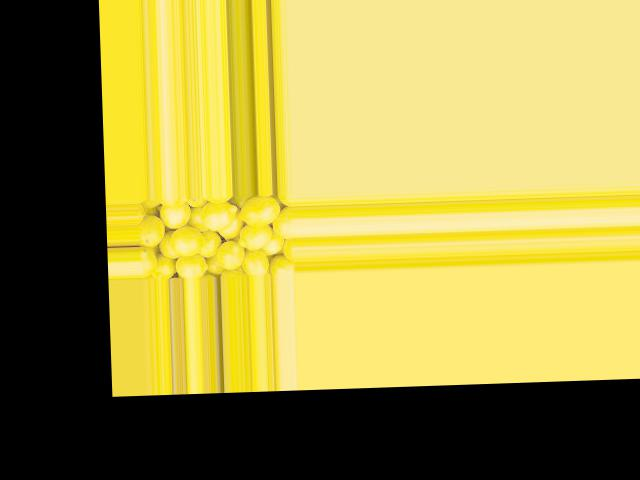lemon: (216, 237, 243, 271)
